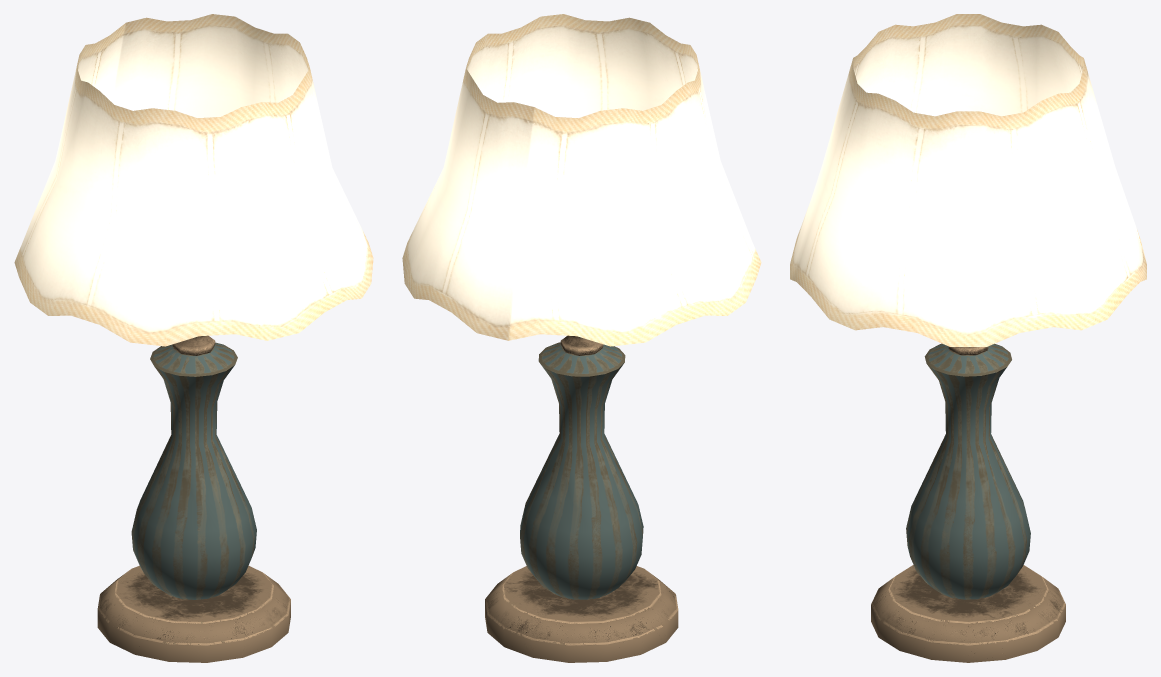
The model's file is lamp01.fbx.
3 renders of one model, left to right at view 1: azimuth 30°, elevation 25°; view 2: azimuth 150°, elevation 25°; view 3: azimuth 270°, elevation 25°, orthographic.
Visible parts, largest first — view 1: fancy lamp low poly.001; view 2: fancy lamp low poly.001; view 3: fancy lamp low poly.001.
Boxes of the visible parts, bbox=[...] form: fancy lamp low poly.001: bbox=[14, 14, 373, 662]; fancy lamp low poly.001: bbox=[402, 14, 761, 662]; fancy lamp low poly.001: bbox=[790, 14, 1146, 662].
Size of the model in its own units: 40.84 by 70.59 by 40.84.
